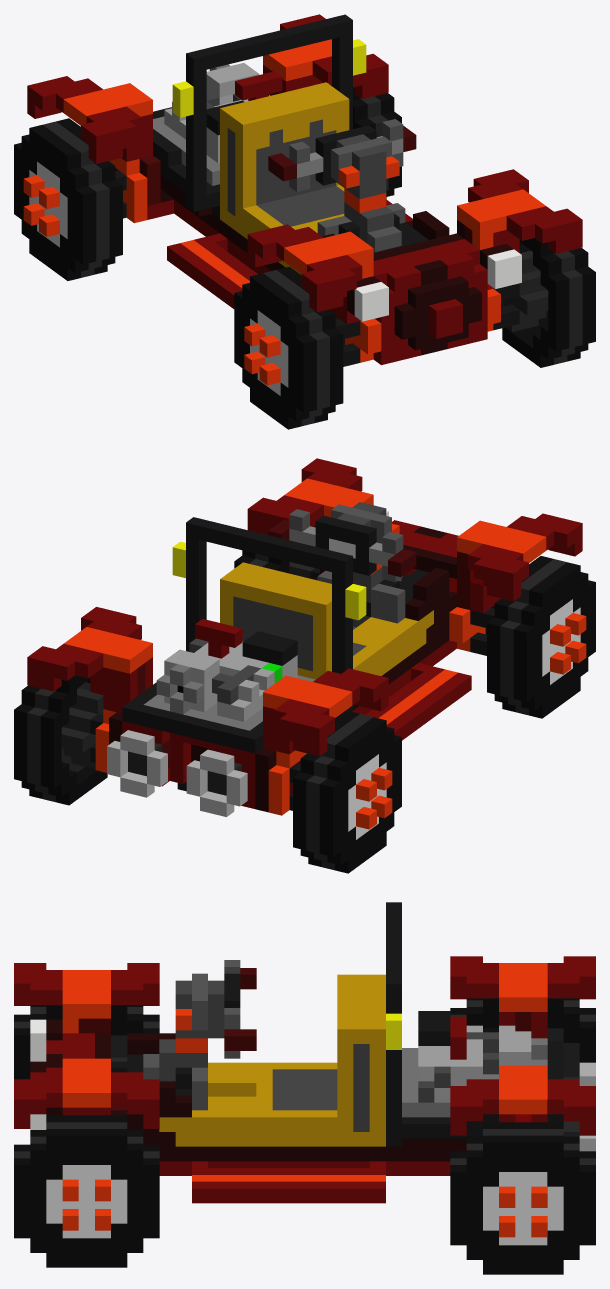
Rendered from Multi_Red_Kart.obj.
The picture shows the model from 3 angles, top to bottom: view 1: azimuth 30°, elevation 25°; view 2: azimuth 150°, elevation 25°; view 3: azimuth 270°, elevation 25°; orthographic projection. The views are drawn at different scales.
Size of the model in its own units: 2.6 by 1.7 by 3.6.
1 material, 1 textured.
